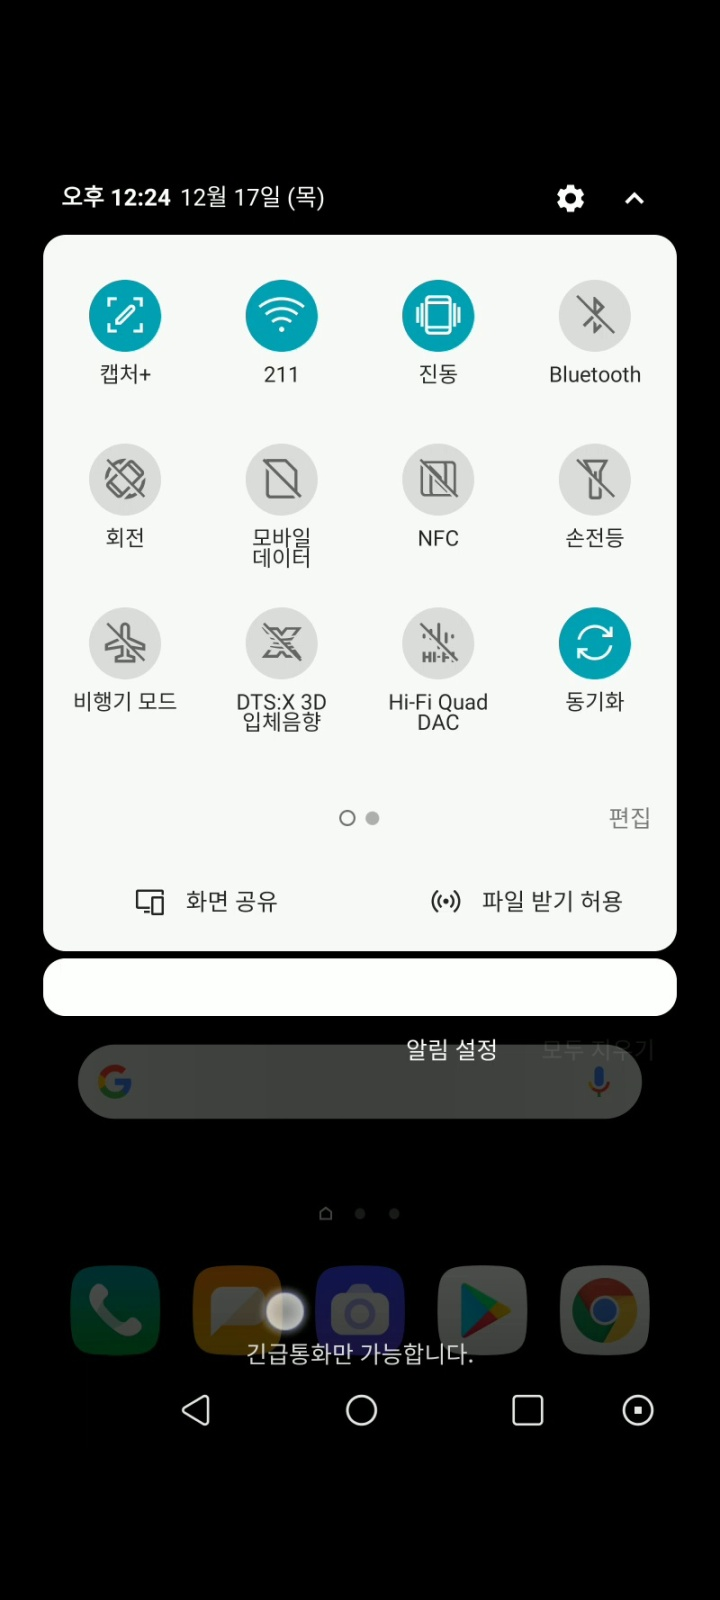Cursor: (262, 1289, 307, 1334)
